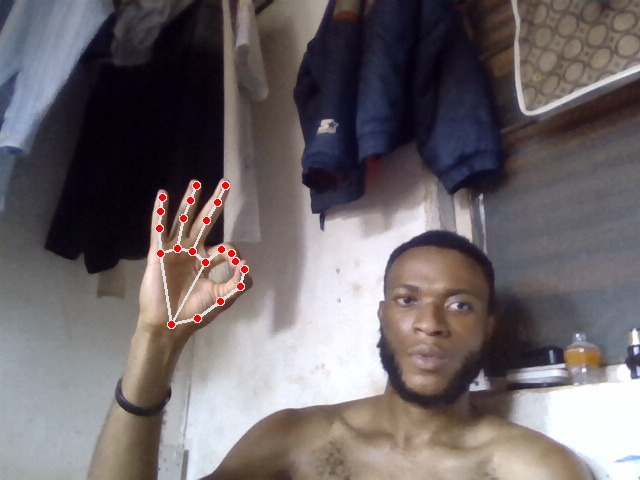okay: (137, 177, 254, 339)
